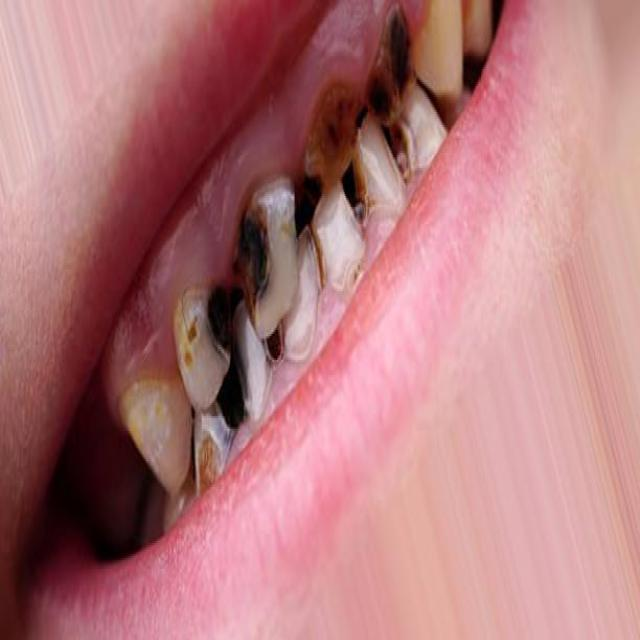caries: (227, 164, 302, 330), (296, 65, 357, 203), (361, 0, 424, 121), (189, 270, 241, 366), (381, 110, 428, 210), (189, 403, 232, 489), (212, 363, 252, 444), (343, 164, 384, 240), (257, 310, 293, 368)
